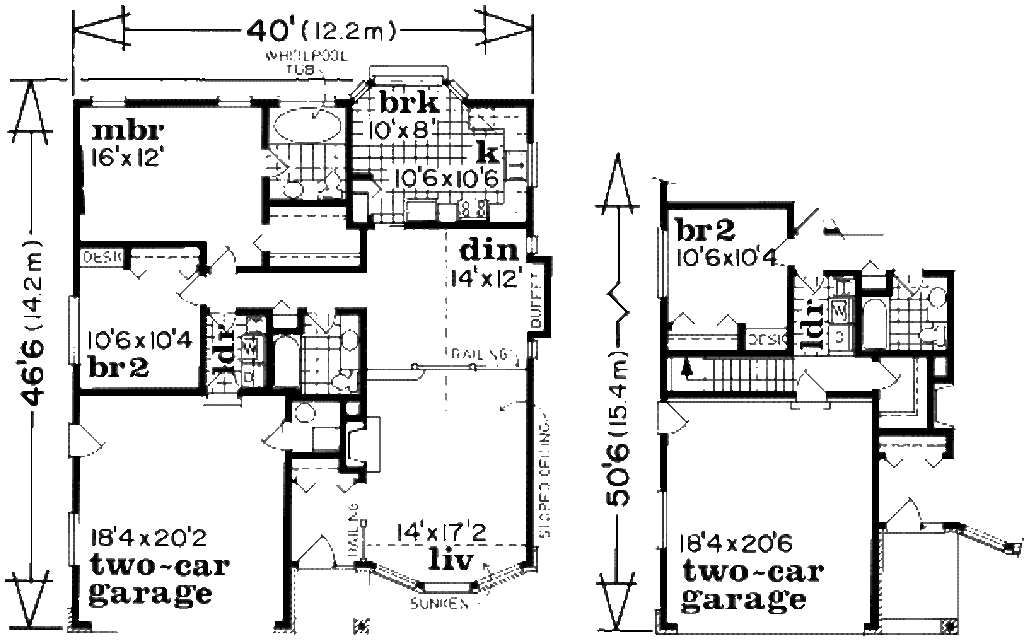door: (289, 532, 341, 574), (883, 493, 930, 538), (64, 419, 109, 464), (791, 372, 832, 410), (256, 419, 295, 456), (653, 398, 688, 435), (872, 354, 904, 390), (303, 306, 339, 338), (258, 146, 293, 178), (205, 249, 245, 275), (172, 274, 202, 308)
large_sink: (326, 362, 368, 392), (916, 317, 954, 348)
small_sink: (336, 313, 362, 372), (925, 272, 953, 316)
stairs: (668, 357, 786, 394)
tub: (269, 101, 345, 147), (268, 332, 305, 388), (859, 289, 891, 348)
window: (59, 295, 86, 364), (653, 225, 673, 304), (61, 509, 86, 568), (526, 135, 542, 196), (216, 92, 255, 117), (85, 96, 127, 109)
